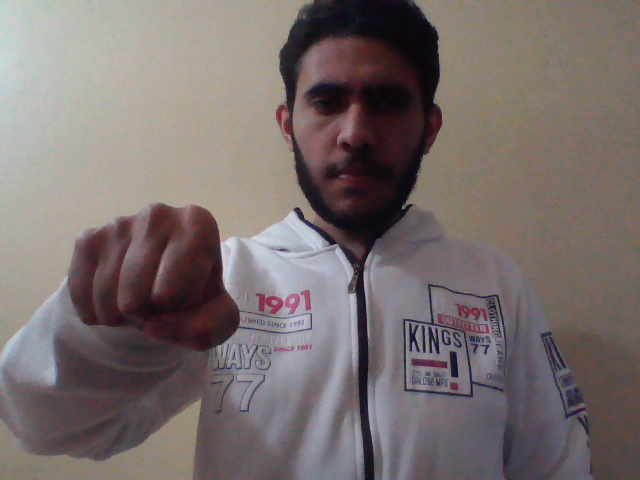yes: (67, 195, 253, 359)
